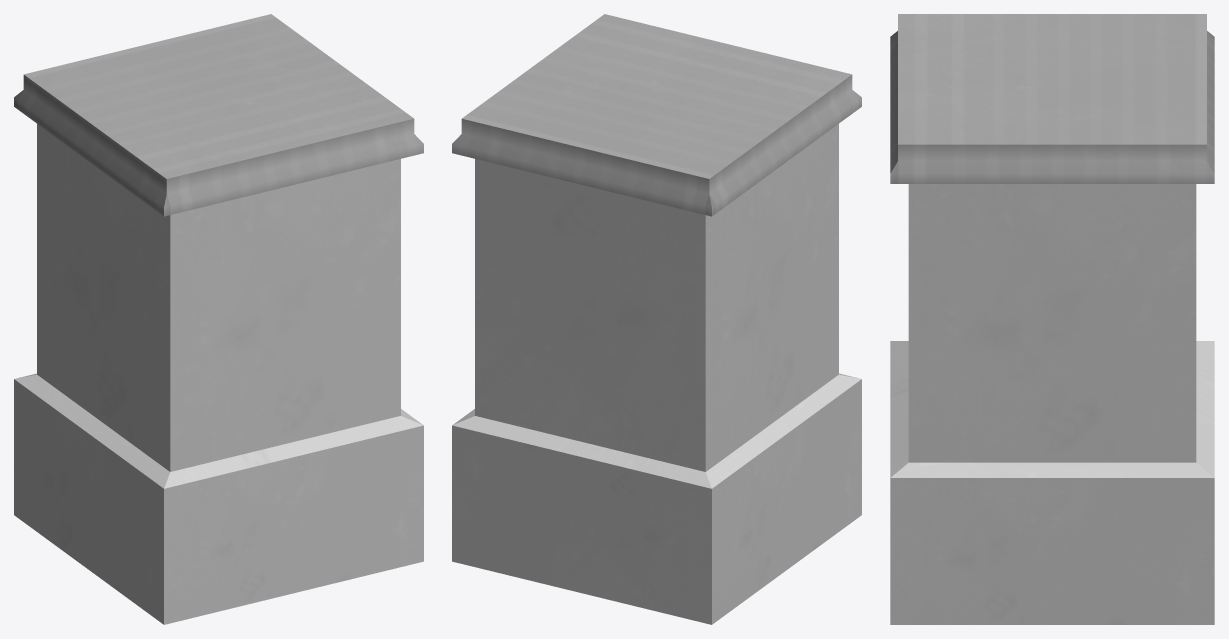
File: sidewalkBlock.fbx
3 renders of one model, left to right at view 1: azimuth 30°, elevation 25°; view 2: azimuth 150°, elevation 25°; view 3: azimuth 270°, elevation 25°, orthographic. The views are drawn at different scales.
Visible parts, largest first — view 1: sidewalkBlock; view 2: sidewalkBlock; view 3: sidewalkBlock.
Part boxes in pixels (x1=…): sidewalkBlock: x1=14, y1=14, x2=423, y2=624; sidewalkBlock: x1=452, y1=14, x2=861, y2=624; sidewalkBlock: x1=890, y1=14, x2=1214, y2=624.
Size of the model in its own units: 173 by 282 by 173.
